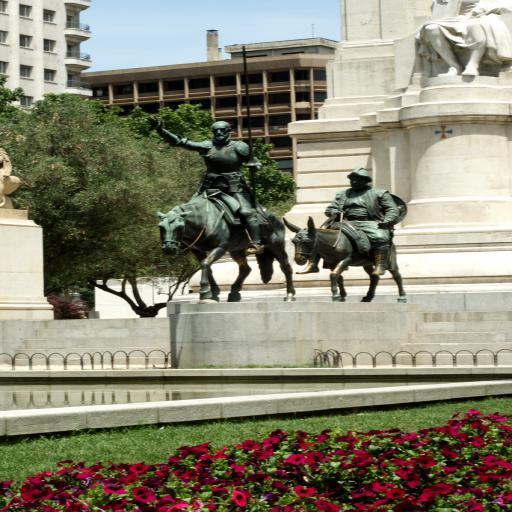horse: (158, 196, 298, 300), (280, 212, 406, 302)
